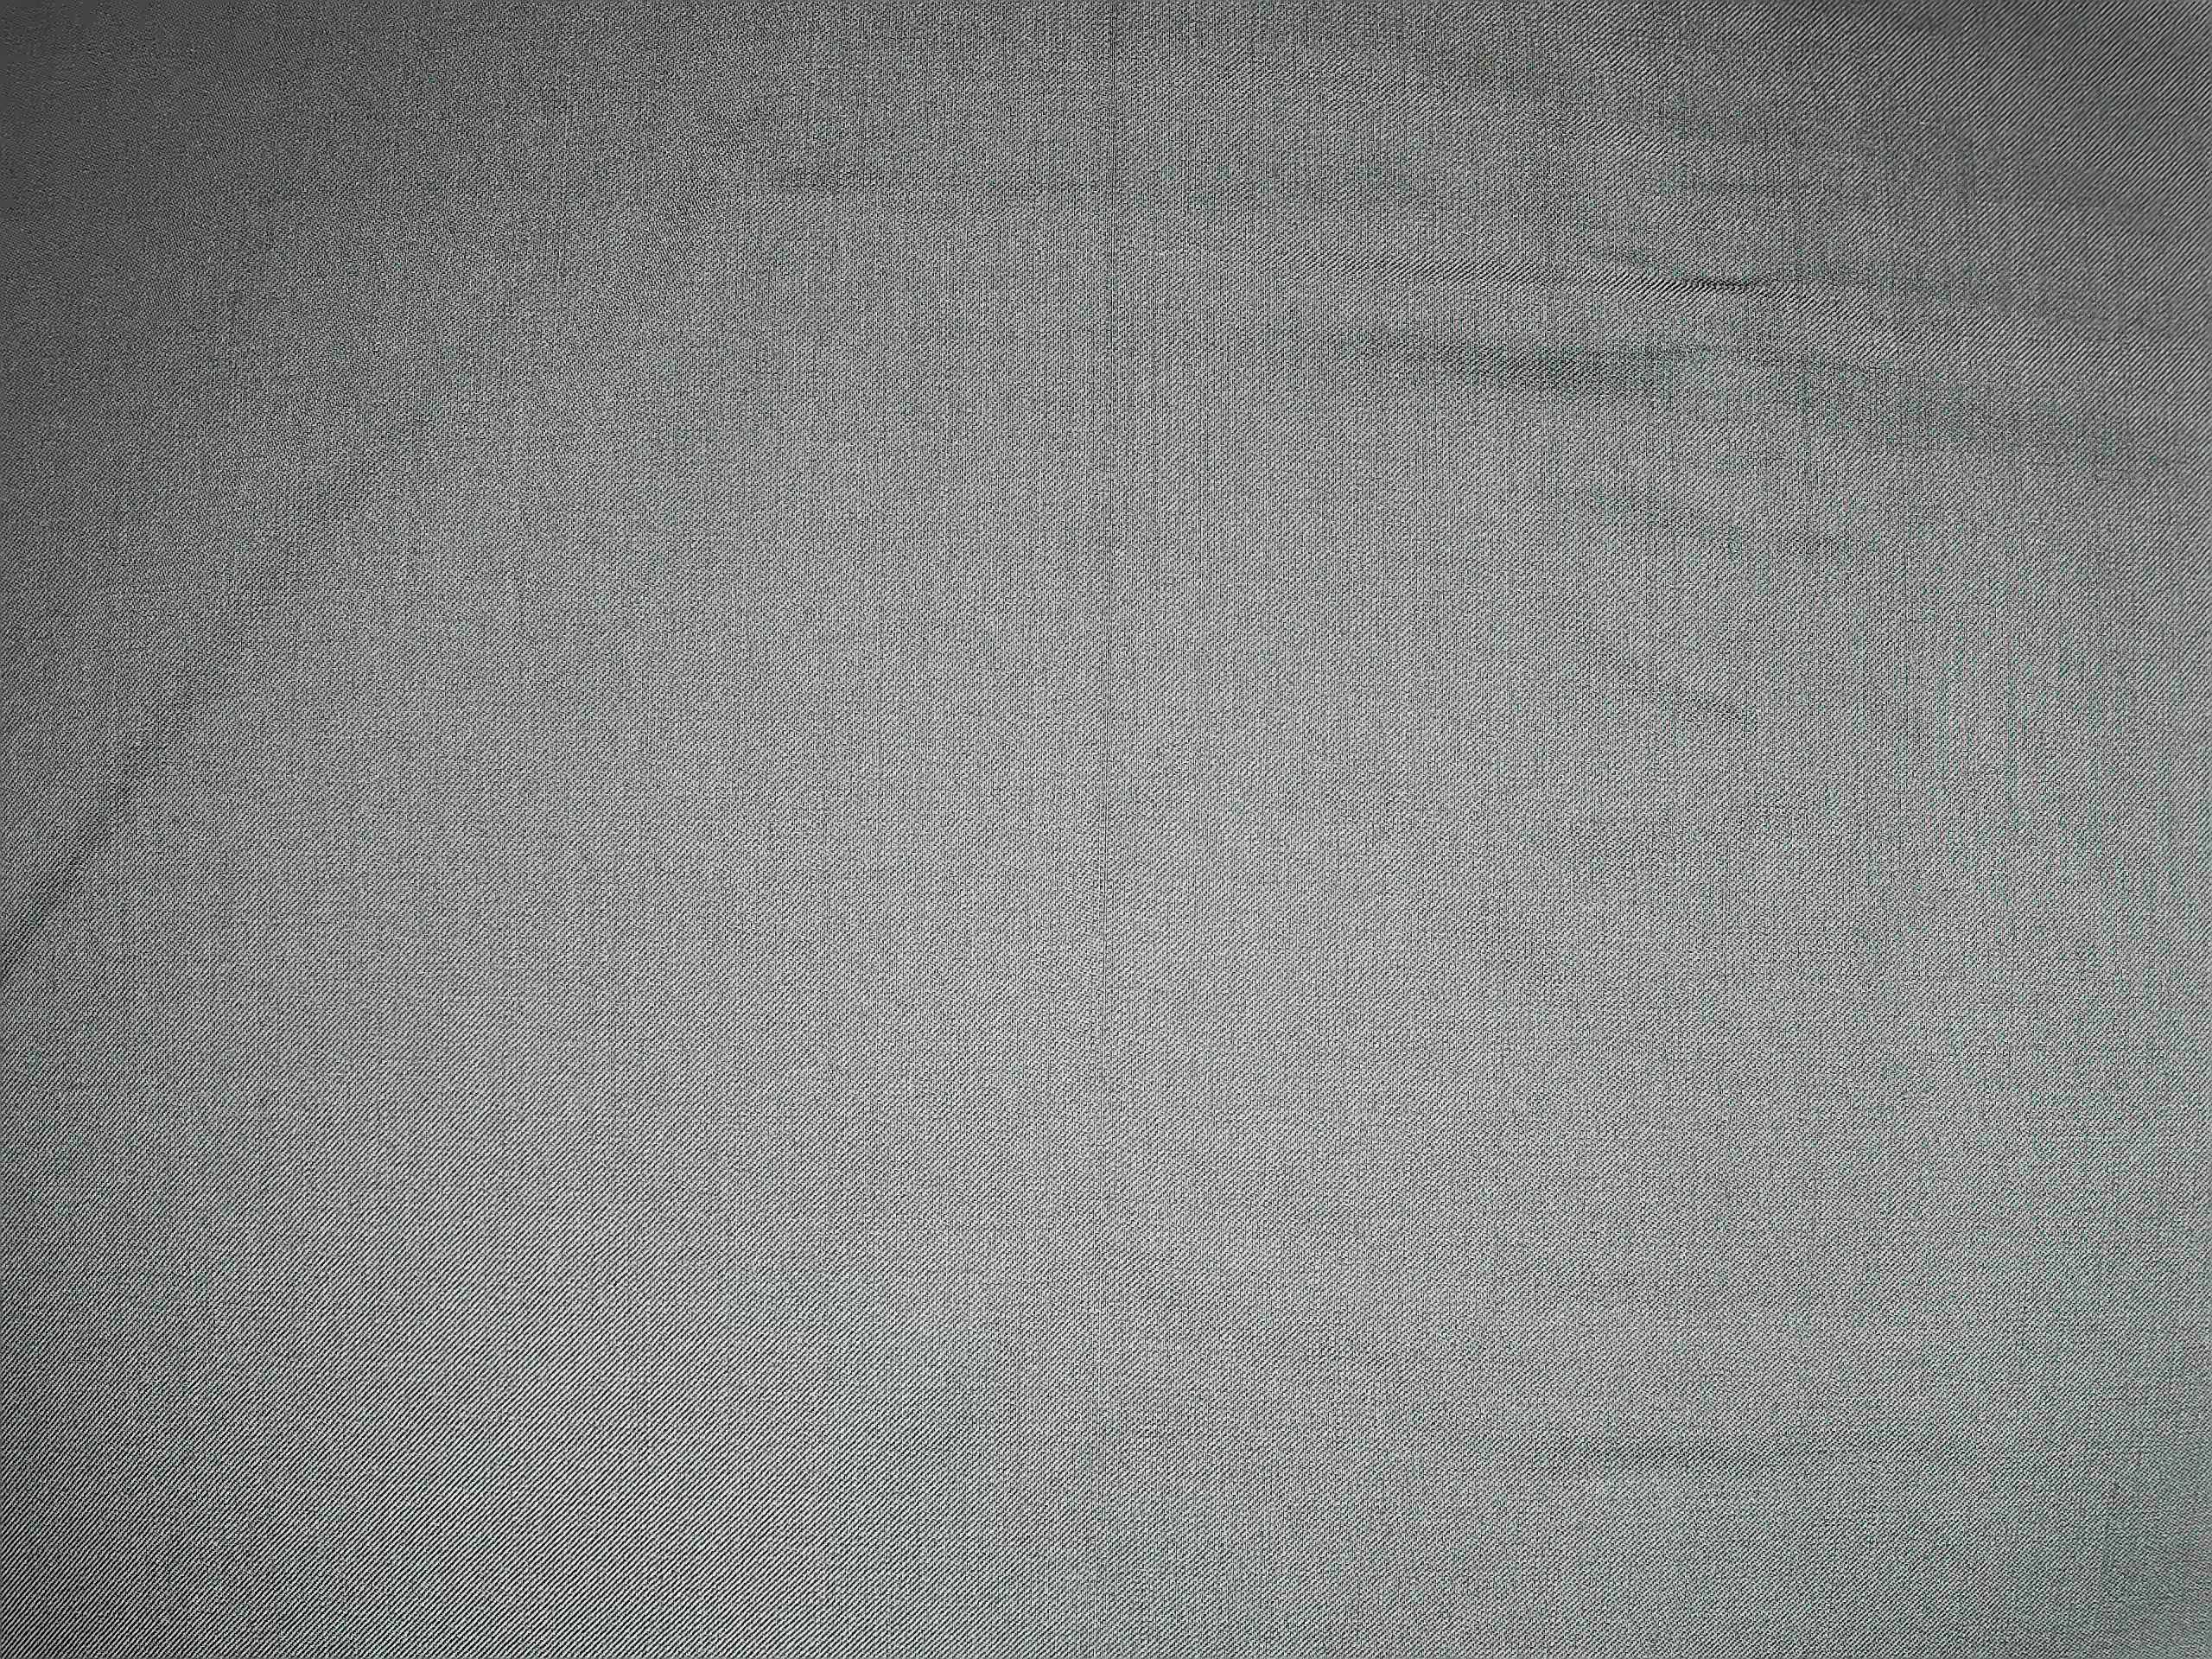hanging-warp: (1083, 9, 1139, 1192)
